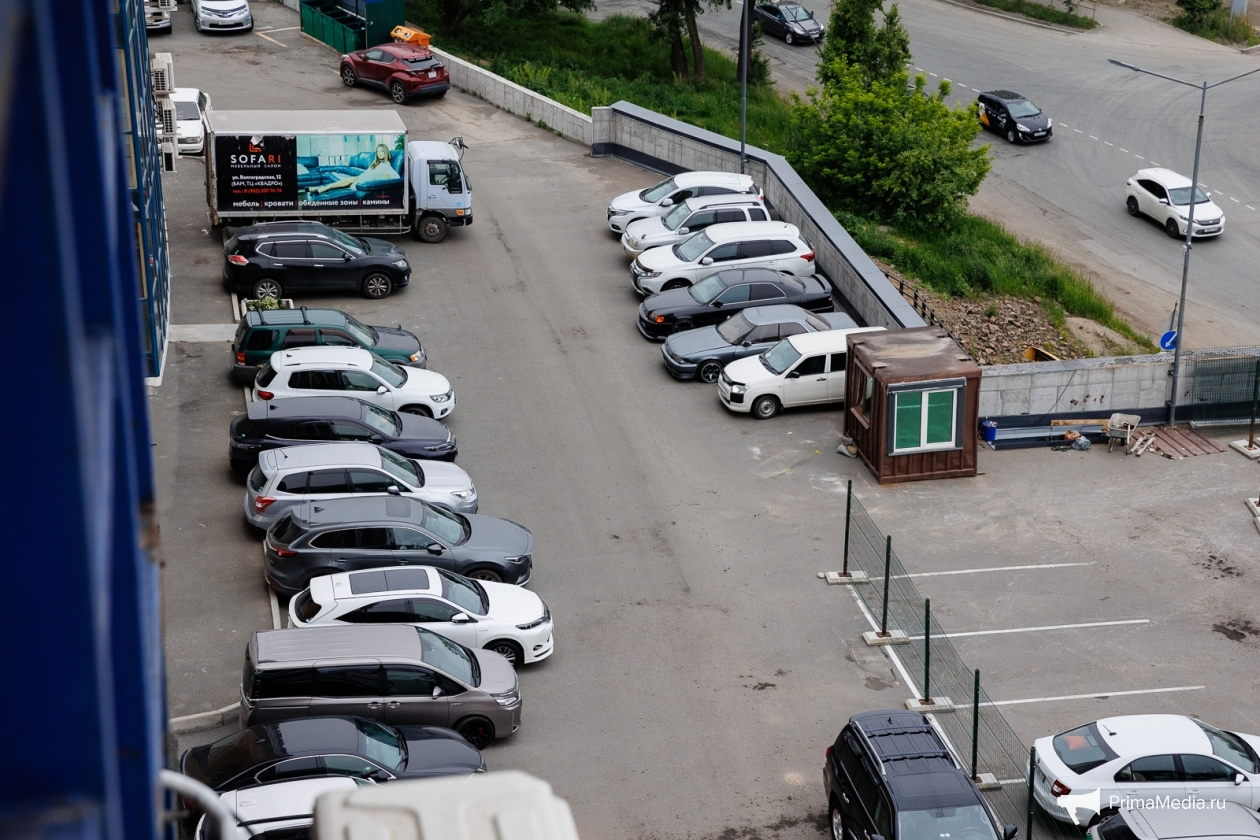Car: (206, 110, 472, 242), (242, 625, 522, 748), (288, 567, 553, 666), (265, 497, 533, 594), (1034, 715, 1260, 827), (824, 710, 1017, 840), (180, 717, 485, 790), (245, 444, 477, 529), (229, 397, 457, 472), (718, 325, 888, 419), (661, 305, 856, 383), (251, 347, 455, 419), (223, 222, 412, 299), (231, 308, 427, 379), (632, 219, 815, 295), (638, 269, 831, 339), (193, 776, 374, 840), (606, 171, 764, 235), (623, 195, 771, 257), (1125, 168, 1226, 238), (339, 43, 450, 104), (1087, 801, 1260, 840), (976, 90, 1052, 143), (755, 2, 824, 44), (169, 88, 210, 154), (192, 0, 253, 32), (144, 0, 173, 32)
